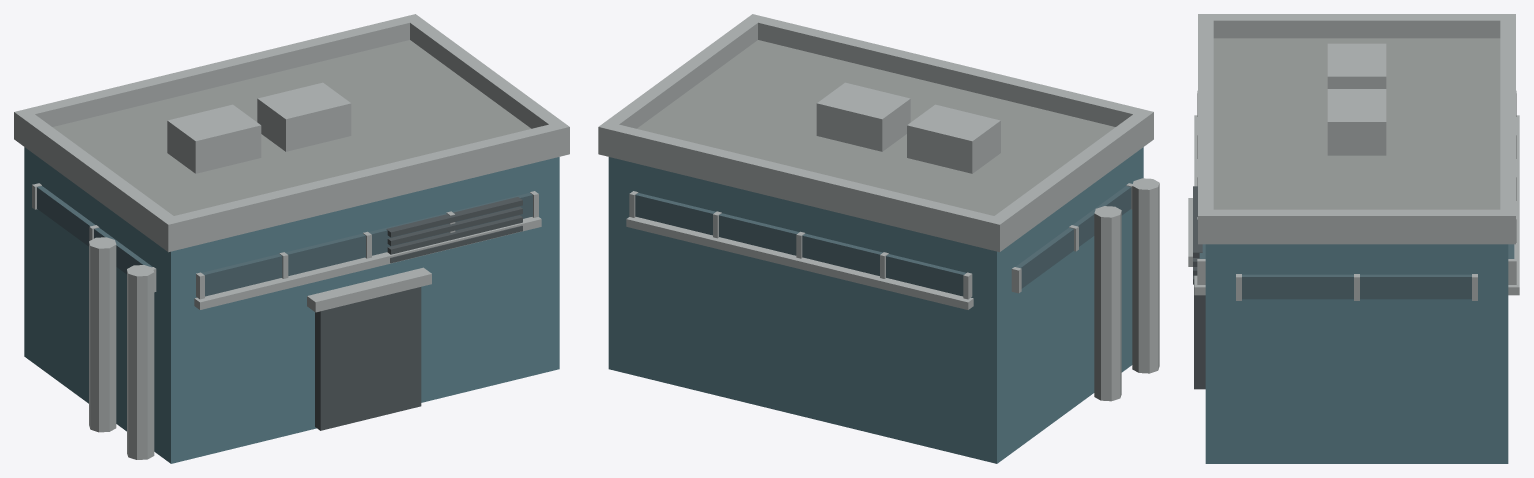
File: ecopump.glb
The picture shows the model from 3 angles, left to right: view 1: azimuth 30°, elevation 25°; view 2: azimuth 150°, elevation 25°; view 3: azimuth 270°, elevation 25°; orthographic projection. The views are drawn at different scales.
Parts seen in each view (by area): view 1: ecopump; view 2: ecopump; view 3: ecopump.
Boxes of the visible parts, bbox=[...] form: ecopump: bbox=[14, 14, 569, 463]; ecopump: bbox=[598, 14, 1159, 463]; ecopump: bbox=[1188, 14, 1519, 463].
Size of the model in its own units: 2.59 by 1.51 by 1.7.
